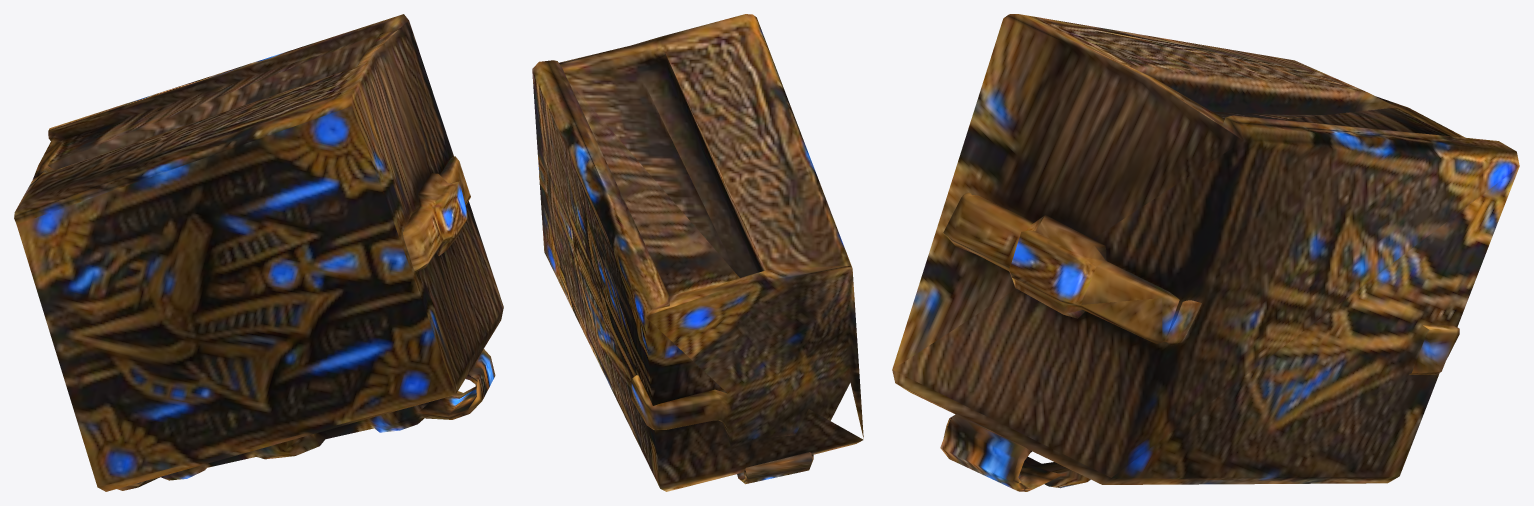
3 renders of one model, left to right at view 1: azimuth 30°, elevation 25°; view 2: azimuth 150°, elevation 25°; view 3: azimuth 270°, elevation 25°, orthographic. The views are drawn at different scales.
Visible parts, largest first — view 1: LB-07; view 2: LB-07; view 3: LB-07.
Boxes of the visible parts, x1,y1,x2,y2 form: LB-07: (14, 14, 503, 491); LB-07: (532, 14, 863, 491); LB-07: (892, 14, 1519, 491).
Size of the model in its own units: 0.2626 by 0.2545 by 0.28.
Materials: 1 (1 with a texture image).
